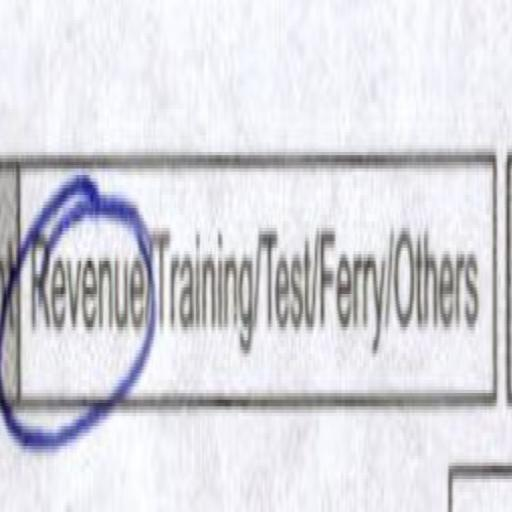check: (20, 134, 150, 463)
